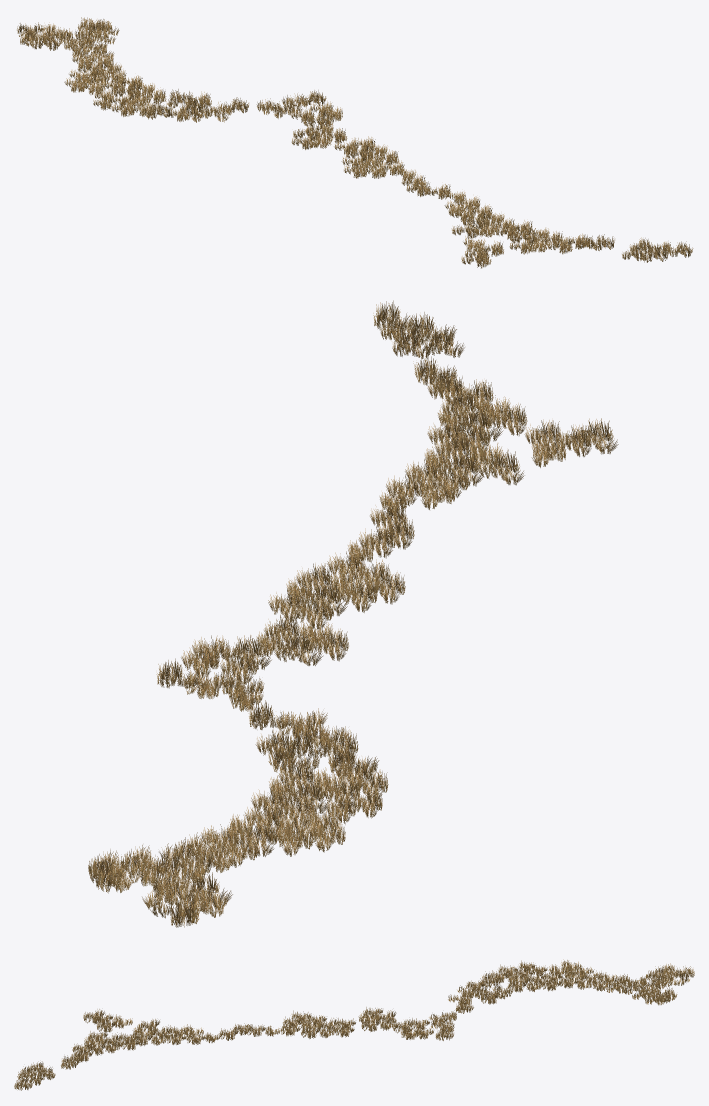
Rendered from Area_05_6.fbx.
3 renders of one model, top to bottom at view 1: azimuth 30°, elevation 25°; view 2: azimuth 150°, elevation 25°; view 3: azimuth 270°, elevation 25°, orthographic. The views are drawn at different scales.
Parts seen in each view (by area): view 1: Area_05_6; view 2: Area_05_6; view 3: Area_05_6.
Boxes of the visible parts, x1,y1,x2,y2 form: Area_05_6: (17,17,693,268); Area_05_6: (88,300,618,927); Area_05_6: (14,959,694,1090).
Bounding box in the file's own units: 6086 × 238 × 13870.
1 material, 1 textured.
